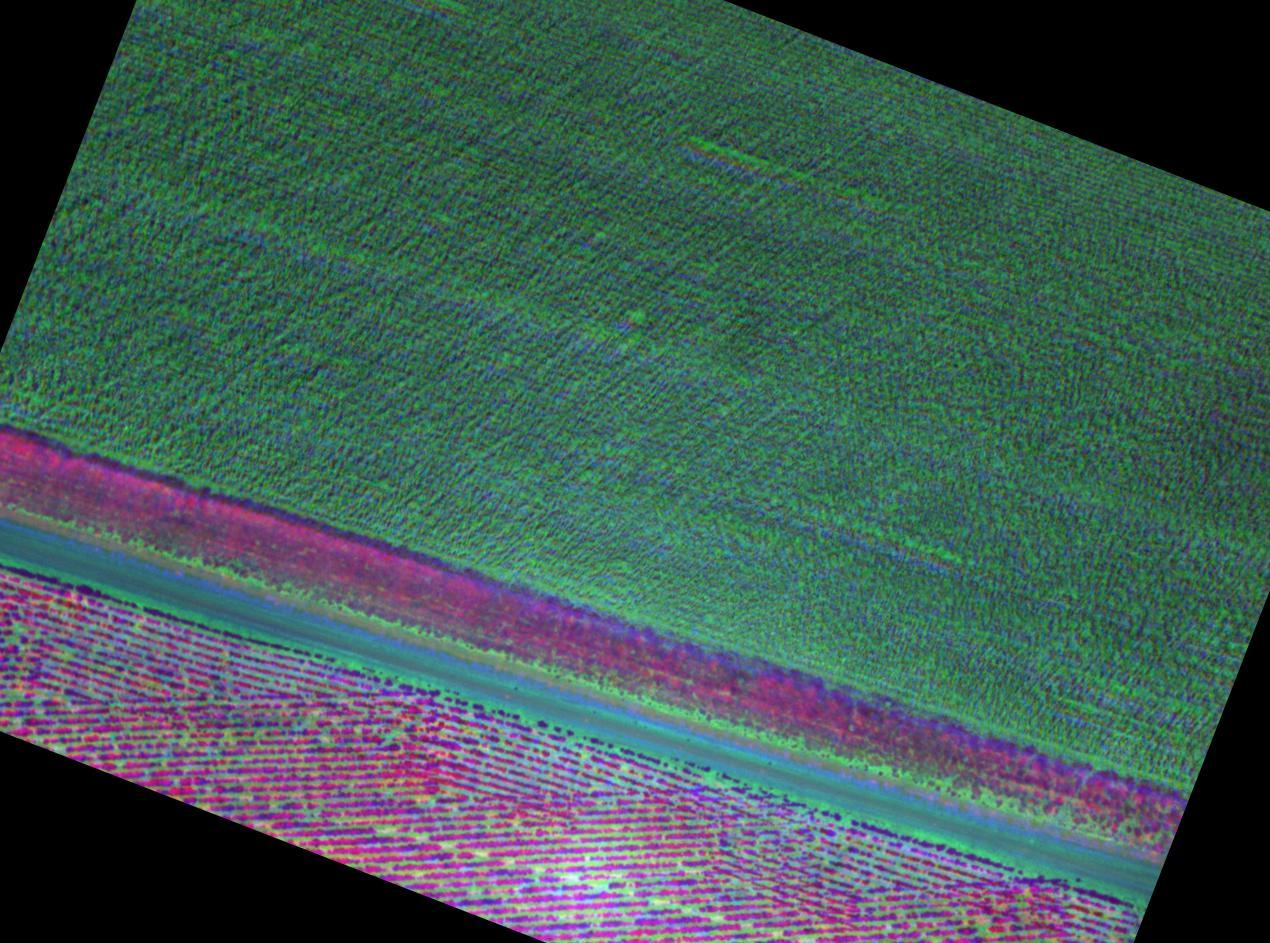dc: (659, 900, 666, 907), (980, 918, 987, 925), (596, 882, 604, 888), (688, 908, 694, 914), (715, 916, 721, 922)
